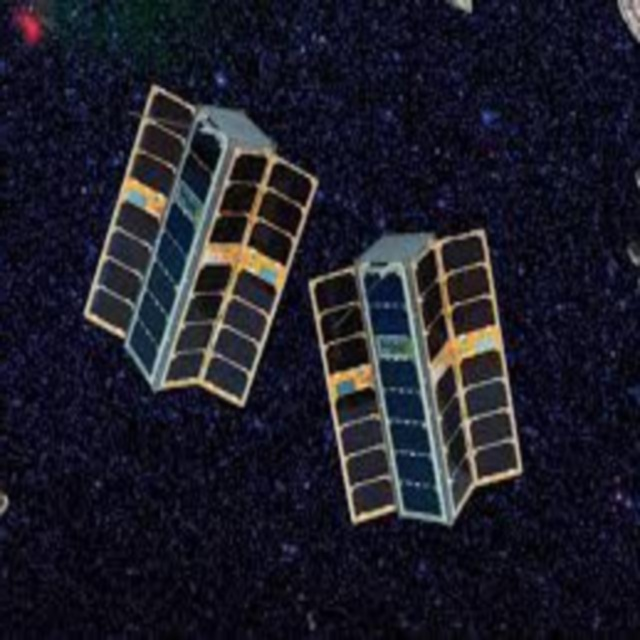satellite: (74, 66, 330, 405), (300, 219, 536, 544)
